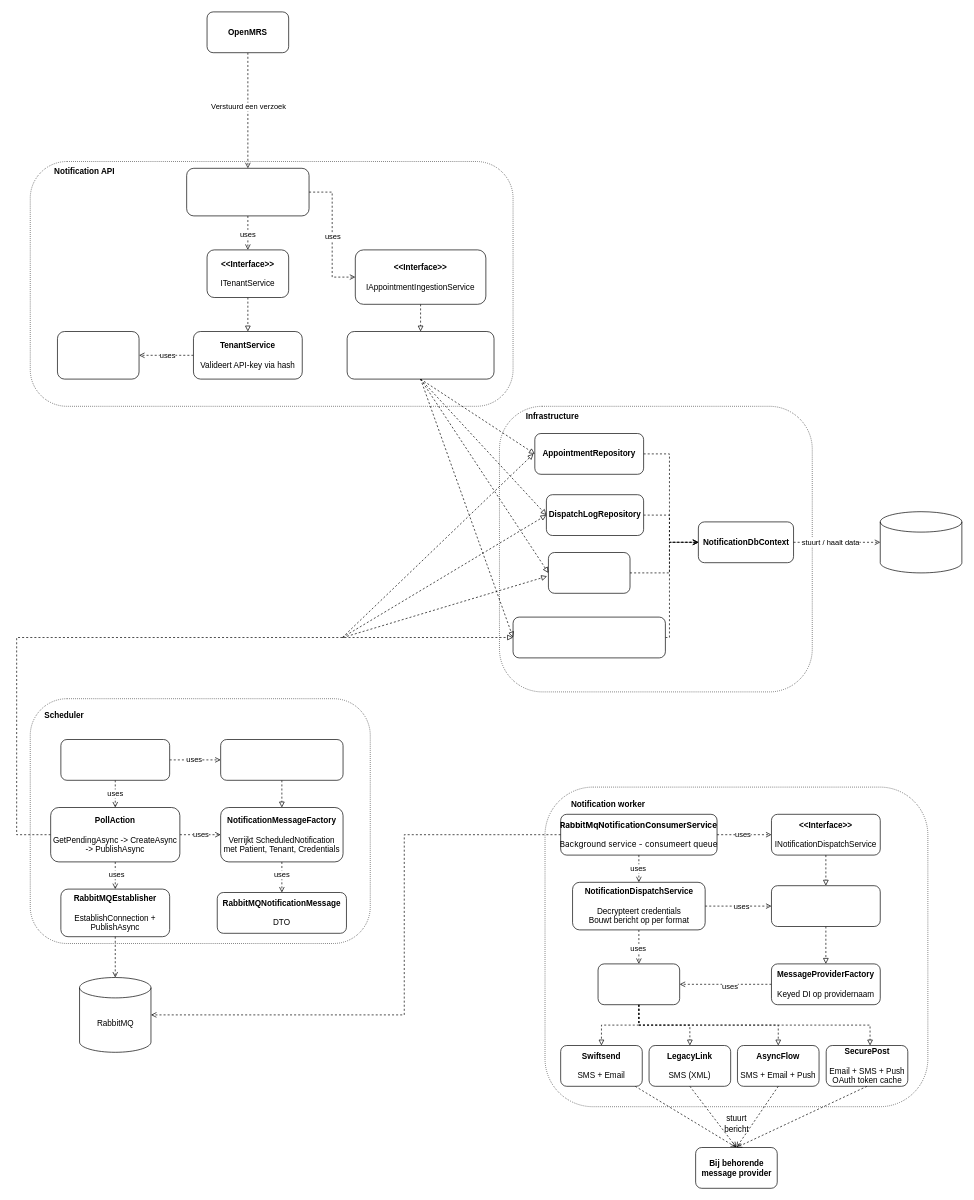
This 974x1200 diagram has some shape labels left out. The shapes that lost their labels are listed below. From the top down, each one's centre as x and y in pixels, then its label:
At (247,192): "WebhookEndPoints POST/webhooks/appointments".
At (98,355): "<<Interface>> IHashingService".
At (420,355): "AppointmentIngestionService CREATED / UPDATED / CANCELLED".
At (921,542): "Database".
At (589,572): "PatientRepository".
At (588,637): "ScheduledNotificationRepository".
At (115,759): "PollerBackGroundService Poll elke 60 seconden".
At (281,759): "<<Interface>> INotificationMessageFactory".
At (825,906): "<<Interface>> IMessageProviderFactory".
At (638,984): "<<Interface>> IMessageProvider".
